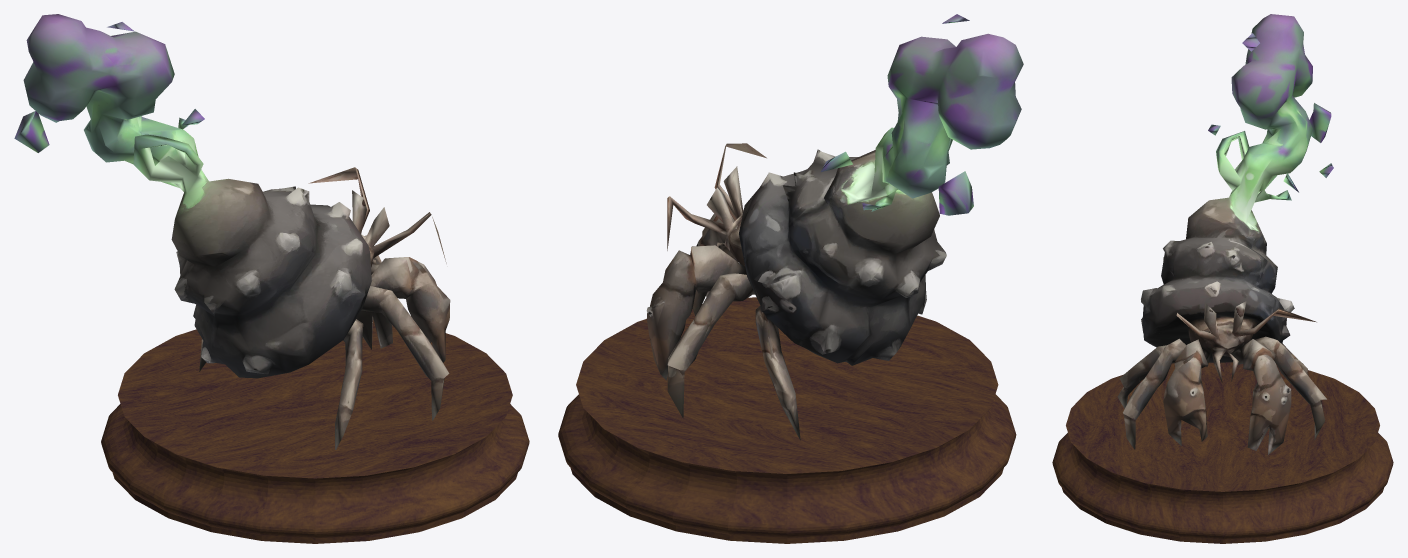
Rendered from soldato.glb.
3 renders of one model, left to right at view 1: azimuth 30°, elevation 25°; view 2: azimuth 150°, elevation 25°; view 3: azimuth 270°, elevation 25°, orthographic. The views are drawn at different scales.
Visible parts, largest first — view 1: BézierCurve, tripo_node_39d1030e-3759-4b90-b37a-fc456d0c746b; view 2: BézierCurve, tripo_node_39d1030e-3759-4b90-b37a-fc456d0c746b; view 3: BézierCurve, tripo_node_39d1030e-3759-4b90-b37a-fc456d0c746b.
Boxes of the visible parts, left/top/right/bottom form: BézierCurve: left=101, top=320, right=529, bottom=543; tripo_node_39d1030e-3759-4b90-b37a-fc456d0c746b: left=14, top=14, right=450, bottom=449; BézierCurve: left=558, top=297, right=1016, bottom=543; tripo_node_39d1030e-3759-4b90-b37a-fc456d0c746b: left=646, top=14, right=1023, bottom=440; BézierCurve: left=1052, top=362, right=1393, bottom=543; tripo_node_39d1030e-3759-4b90-b37a-fc456d0c746b: left=1117, top=14, right=1333, bottom=455.
Size of the model in its own units: 1.12 by 1.14 by 0.9545.
2 materials, 2 textured.
